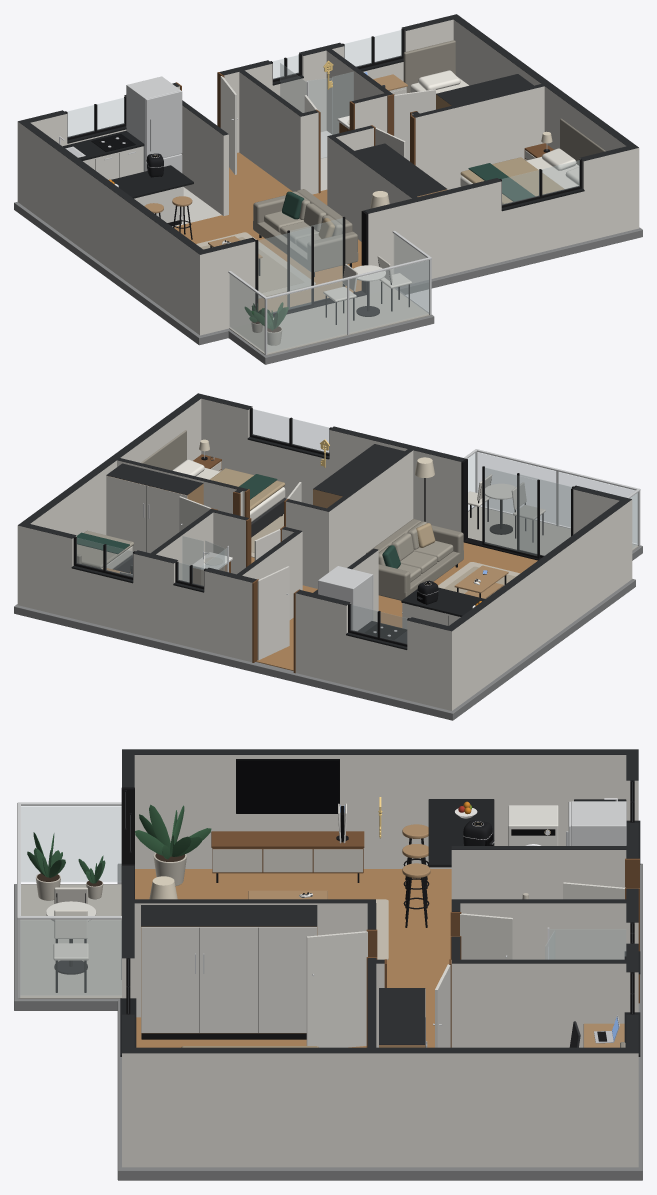
The model's file is apto.glb.
3 views of the same model, one above another, from view 1: azimuth 30°, elevation 25°; view 2: azimuth 150°, elevation 25°; view 3: azimuth 270°, elevation 25° (orthographic). The views are drawn at different scales.
Visible parts, largest first — view 1: par_sul, par_oeste, guarda_corpo, piso, par_q1_norte, porta_varanda, par_norte, laje, par_leste, par_hall_banho, sofa, cama_casal (+24 smaller); view 2: par_norte, par_oeste, par_sul, porta_varanda, laje, par_sala_q1, par_leste, roupeiro_solteiro, piso, guarda_corpo, sofa, par_q1_norte (+24 smaller); view 3: par_leste, par_oeste, roupeiro_casal, piso, guarda_corpo, par_q2, laje, par_coz_hall, par_hall_banho, porta_q1, rack, tv (+23 smaller).
Part boxes in pixels (bbox=[...]): par_sul: bbox=[195, 144, 639, 335]; par_oeste: bbox=[22, 122, 202, 331]; guarda_corpo: bbox=[228, 231, 431, 355]; piso: bbox=[172, 152, 429, 355]; par_q1_norte: bbox=[333, 84, 544, 189]; porta_varanda: bbox=[251, 210, 368, 317]; par_norte: bbox=[17, 14, 460, 204]; laje: bbox=[14, 202, 642, 364]; par_leste: bbox=[453, 17, 633, 151]; par_hall_banho: bbox=[239, 70, 305, 191]; sofa: bbox=[253, 189, 358, 276]; cama_casal: bbox=[460, 118, 605, 204]; par_norte: bbox=[17, 522, 456, 710]; par_oeste: bbox=[449, 500, 627, 707]; par_sul: bbox=[194, 393, 632, 581]; porta_varanda: bbox=[461, 459, 576, 560]; laje: bbox=[14, 506, 642, 720]; par_sala_q1: bbox=[324, 449, 413, 575]; par_leste: bbox=[22, 396, 201, 535]; roupeiro_solteiro: bbox=[106, 463, 203, 555]; piso: bbox=[130, 506, 638, 670]; guarda_corpo: bbox=[464, 449, 640, 548]; sofa: bbox=[366, 519, 463, 600]; par_q1_norte: bbox=[117, 458, 326, 588]; par_leste: bbox=[134, 1047, 626, 1167]; par_oeste: bbox=[134, 749, 626, 868]; roupeiro_casal: bbox=[141, 905, 317, 1039]; piso: bbox=[19, 869, 451, 1047]; guarda_corpo: bbox=[17, 802, 121, 998]; par_q2: bbox=[376, 959, 626, 1047]; laje: bbox=[14, 863, 642, 1180]; par_coz_hall: bbox=[451, 846, 626, 899]; par_hall_banho: bbox=[451, 899, 626, 959]; porta_q1: bbox=[306, 929, 377, 1047]; rack: bbox=[211, 831, 364, 882]; tv: bbox=[236, 759, 339, 813].
Size of the model in its own units: 8.65 by 3.03 by 7.49.
